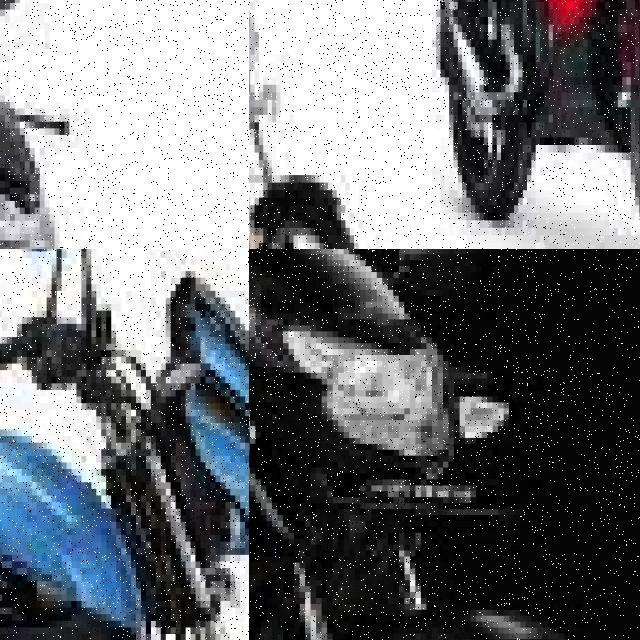bike: (249, 249, 640, 640), (0, 249, 249, 640), (0, 0, 218, 249), (423, 0, 640, 249), (249, 0, 384, 249)
